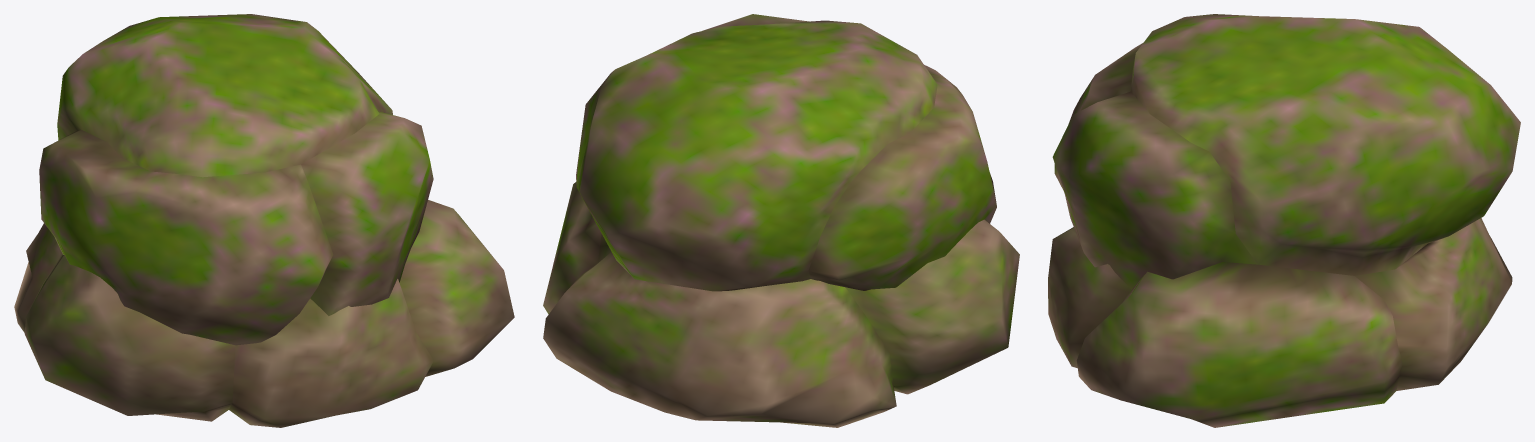
The model's file is sb_obj_nature006_Stone03e.fbx.
3 views of the same model, side by side, from view 1: azimuth 30°, elevation 25°; view 2: azimuth 150°, elevation 25°; view 3: azimuth 270°, elevation 25° (orthographic). The views are drawn at different scales.
Parts seen in each view (by area): view 1: sb_obj_nature006_Stone03e; view 2: sb_obj_nature006_Stone03e; view 3: sb_obj_nature006_Stone03e.
Boxes of the visible parts, bbox=[...] form: sb_obj_nature006_Stone03e: bbox=[14, 14, 514, 427]; sb_obj_nature006_Stone03e: bbox=[543, 14, 1019, 427]; sb_obj_nature006_Stone03e: bbox=[1048, 14, 1520, 427].
Size of the model in its own units: 0.5374 by 0.347 by 0.5011.
